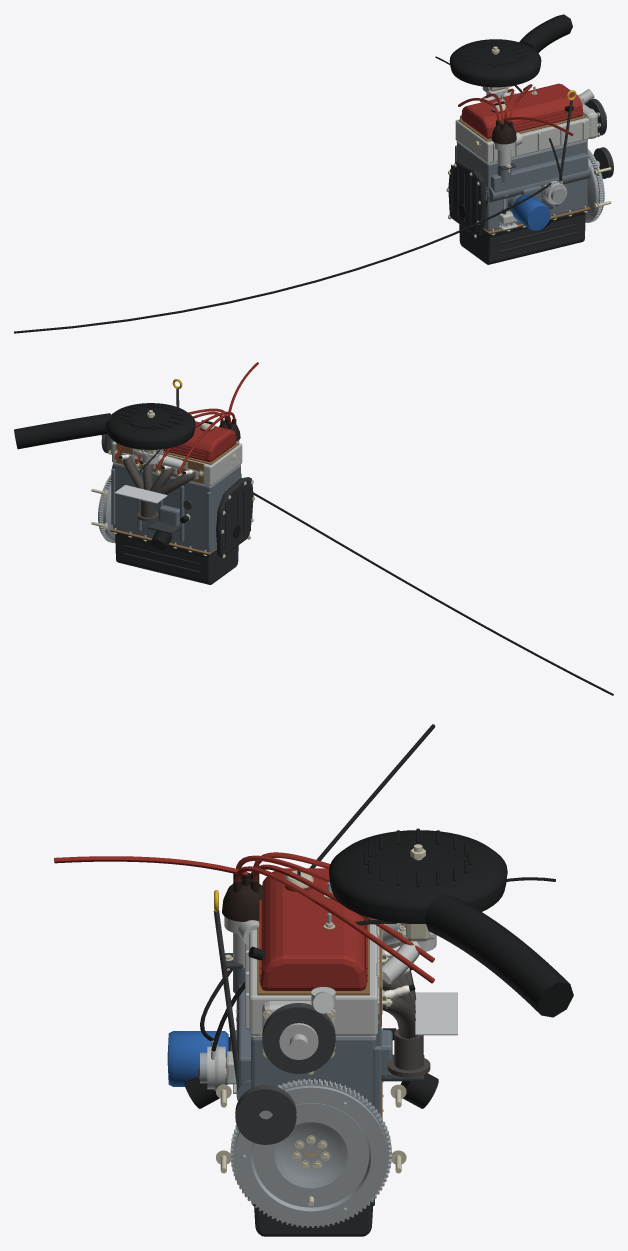
Rendered from moteur.glb.
3 renders of one model, top to bottom at view 1: azimuth 30°, elevation 25°; view 2: azimuth 150°, elevation 25°; view 3: azimuth 270°, elevation 25°, orthographic. The views are drawn at different scales.
Parts seen in each view (by area): view 1: bloc.fonte, filtre-air.noir, carter-huile.tole-noire, cache-culbuteurs.peinture-rouge, culasse.alu-coule, distribution.tole-noire, pompe-essence.caoutchouc, fx.filtre-huile-cartouche.0, allumeur.fil-rouge, volant-moteur.fonte-usinee, allumeur.bakelite, pompe-eau.alu-coule (+1 smaller); view 2: filtre-air.noir, bloc.fonte, carter-huile.tole-noire, distribution.tole-noire, echappement.fonte-echappement, cache-culbuteurs.peinture-rouge, culasse.alu-coule, pompe-essence.caoutchouc, allumeur.fil-rouge, echappement.joint, echappement.tole-alu, volant-moteur.fonte-usinee; view 3: filtre-air.noir, volant-moteur.fonte-usinee, cache-culbuteurs.peinture-rouge, bloc.fonte, allumeur.fil-rouge, culasse.alu-coule, pompe-eau.acier-noirci, arbre-cames.acier-noirci, echappement.fonte-echappement, pompe-eau.alu-coule, fx.filtre-huile-cartouche.0, carter-huile.tole-noire (+10 smaller).
Part boxes in pixels (x1,y1,x2,y2): bloc.fonte: (455,142,590,231); filtre-air.noir: (449,14,572,87); carter-huile.tole-noire: (459,209,590,264); cache-culbuteurs.peinture-rouge: (461,83,583,138); culasse.alu-coule: (455,117,588,163); distribution.tole-noire: (448,161,486,236); pompe-essence.caoutchouc: (14,85,562,333); fx.filtre-huile-cartouche.0: (512,194,550,230); allumeur.fil-rouge: (458,84,573,135); volant-moteur.fonte-usinee: (585,148,604,221); allumeur.bakelite: (491,118,516,144); pompe-eau.alu-coule: (577,89,606,138); filtre-air.noir: (14,403,195,449); bloc.fonte: (111,465,241,552); carter-huile.tole-noire: (110,531,238,584); distribution.tole-noire: (216,477,253,556); echappement.fonte-echappement: (123,456,195,521); cache-culbuteurs.peinture-rouge: (163,421,236,461); culasse.alu-coule: (112,441,242,485); pompe-essence.caoutchouc: (253,492,613,695); allumeur.fil-rouge: (114,362,258,474); echappement.joint: (116,443,204,483); echappement.tole-alu: (114,485,167,503); volant-moteur.fonte-usinee: (98,474,115,541); filtre-air.noir: (329,828,573,1017); volant-moteur.fonte-usinee: (234,1080,387,1226); cache-culbuteurs.peinture-rouge: (259,868,367,990); bloc.fonte: (230,968,392,1117); allumeur.fil-rouge: (54,852,434,983); culasse.alu-coule: (245,924,382,1035); pompe-eau.acier-noirci: (262,1003,335,1073); arbre-cames.acier-noirci: (235,1085,296,1144); echappement.fonte-echappement: (382,942,430,1077); pompe-eau.alu-coule: (262,987,335,1059); fx.filtre-huile-cartouche.0: (167,1031,229,1086); carter-huile.tole-noire: (252,1198,374,1236).
Bounding box in the file's own units: 2.16 × 0.6369 × 0.85.
